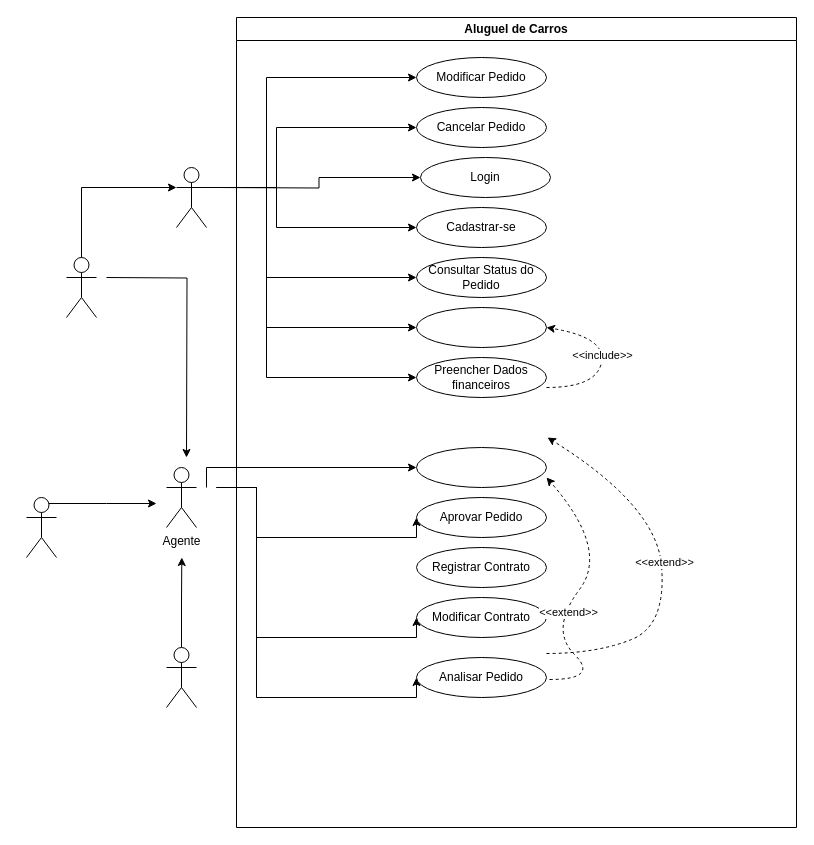
Image size: 814x845. Some labels were removed from this diagram. Here are the shapes that lost their labels. From the top down, the box of each, then its label:
(176, 166, 206, 228): Cliente
(66, 256, 96, 318): Usuario
(416, 306, 546, 348): Criar Pedido
(416, 446, 546, 488): Reprovar Pedido
(26, 496, 56, 558): Empresa
(166, 646, 196, 708): Banco
